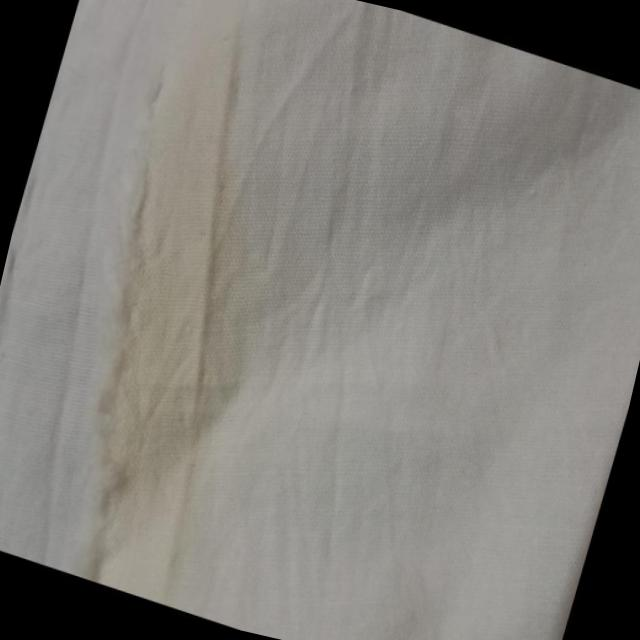stain: (14, 0, 333, 614)
